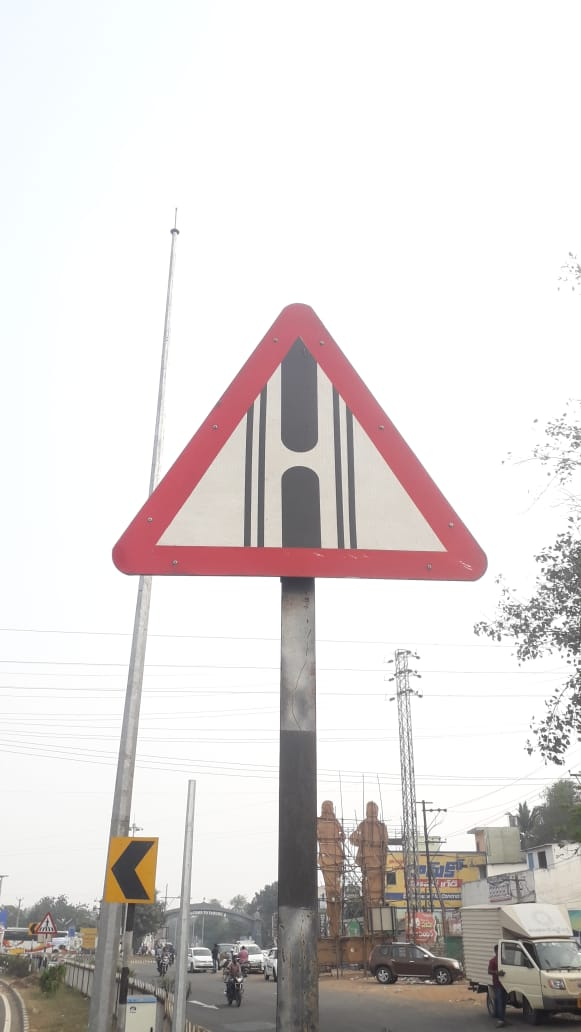highway go straight: (79, 264, 510, 610)
